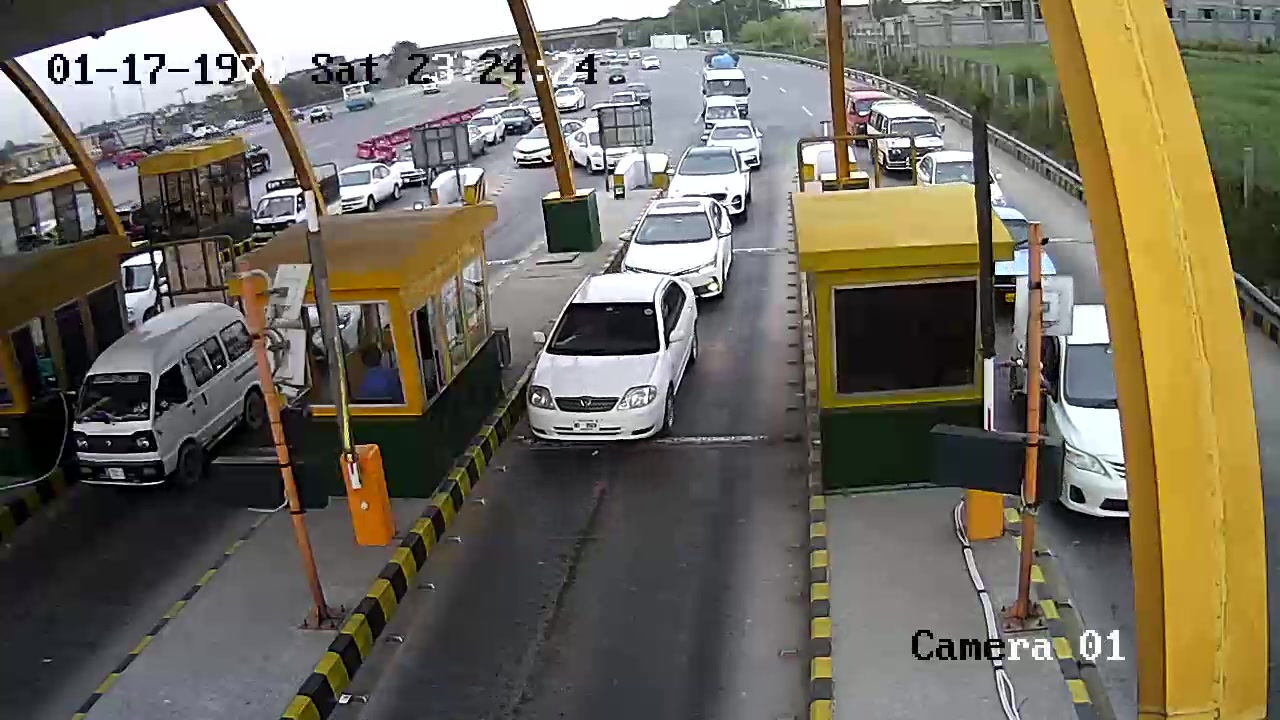F1: (527, 264, 704, 466)
